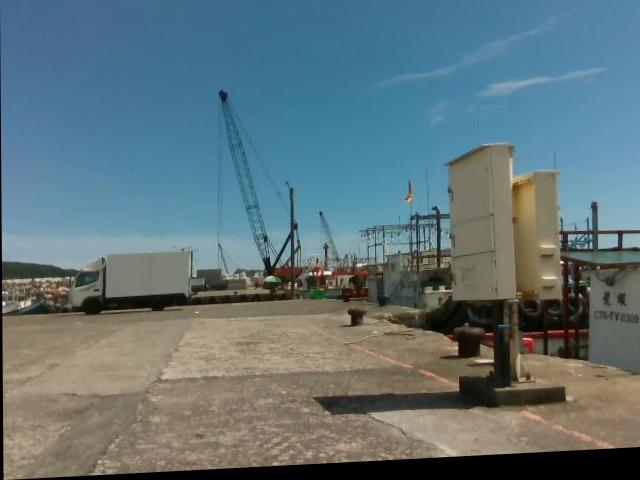pollute: (194, 311, 200, 315)
